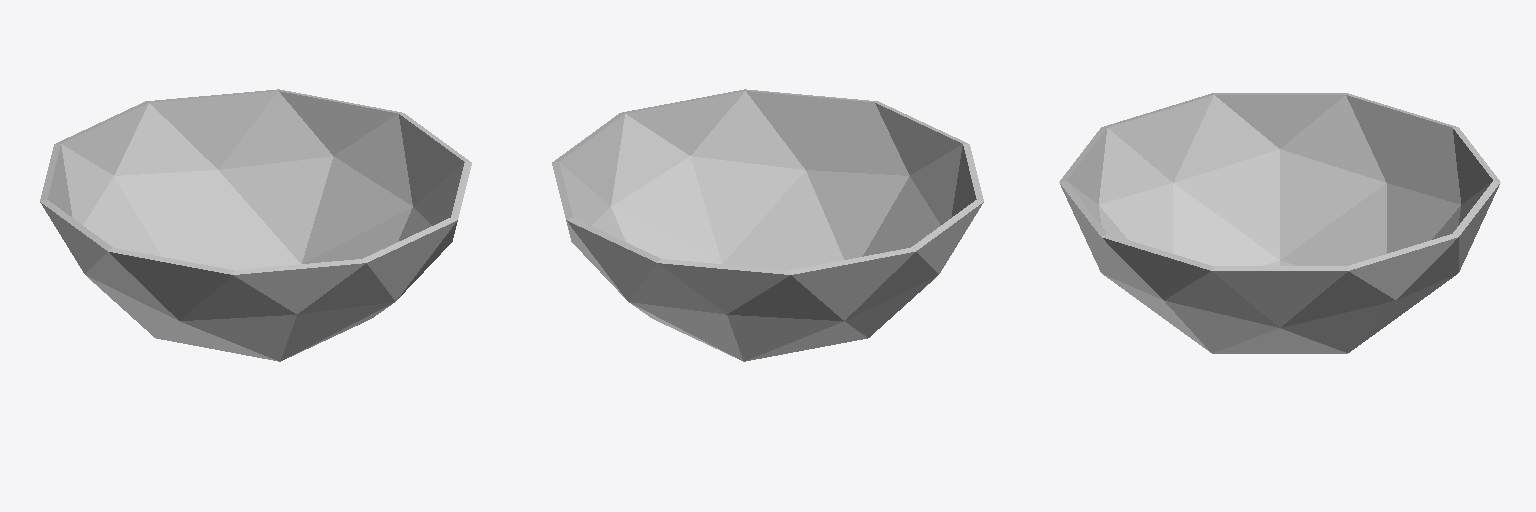
Rendered from dish-type-02.obj.
3 views of the same model, side by side, from view 1: azimuth 30°, elevation 25°; view 2: azimuth 150°, elevation 25°; view 3: azimuth 270°, elevation 25° (orthographic).
Parts seen in each view (by area): view 1: dish-type-02; view 2: dish-type-02; view 3: dish-type-02.
Boxes of the visible parts, x1=… form: dish-type-02: x1=40, y1=89, x2=471, y2=361; dish-type-02: x1=552, y1=89, x2=983, y2=361; dish-type-02: x1=1059, y1=93, x2=1500, y2=353.
Size of the model in its own units: 0.1174 by 0.0464 by 0.1235.